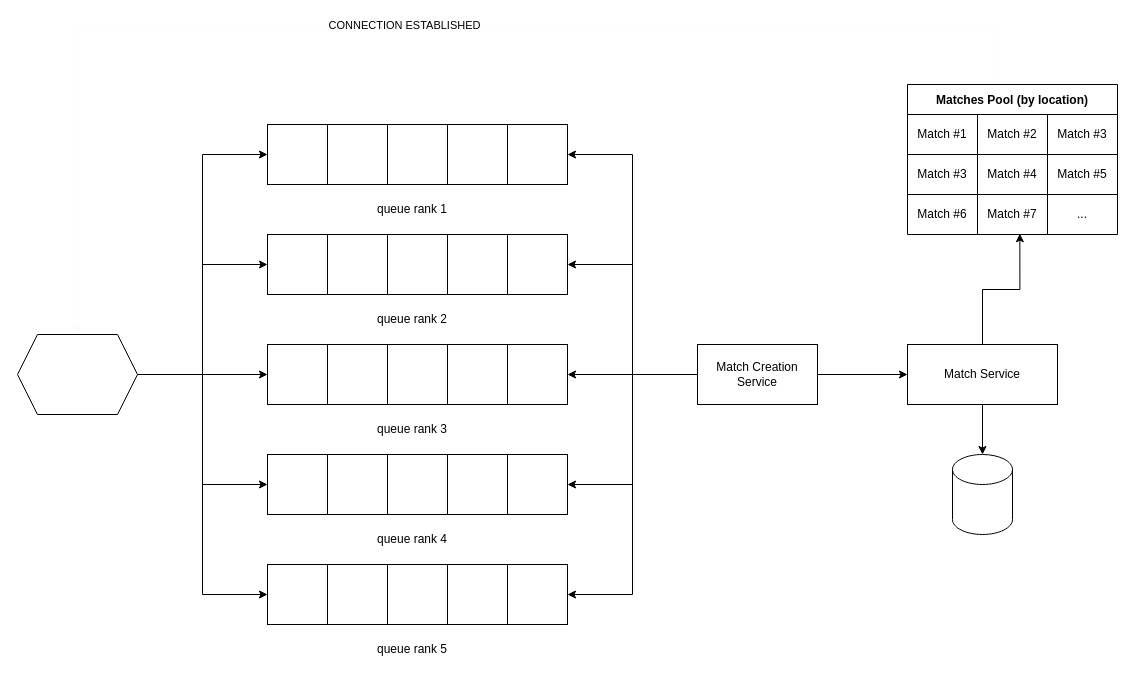
Some shapes in this 1135 by 682 pixel diagram are drawn without their labels. Here are the shapes that lost their labels. From the top down, the centre of each, then its label:
the point at 77,374: Game Client
the point at 982,494: Matches Database
